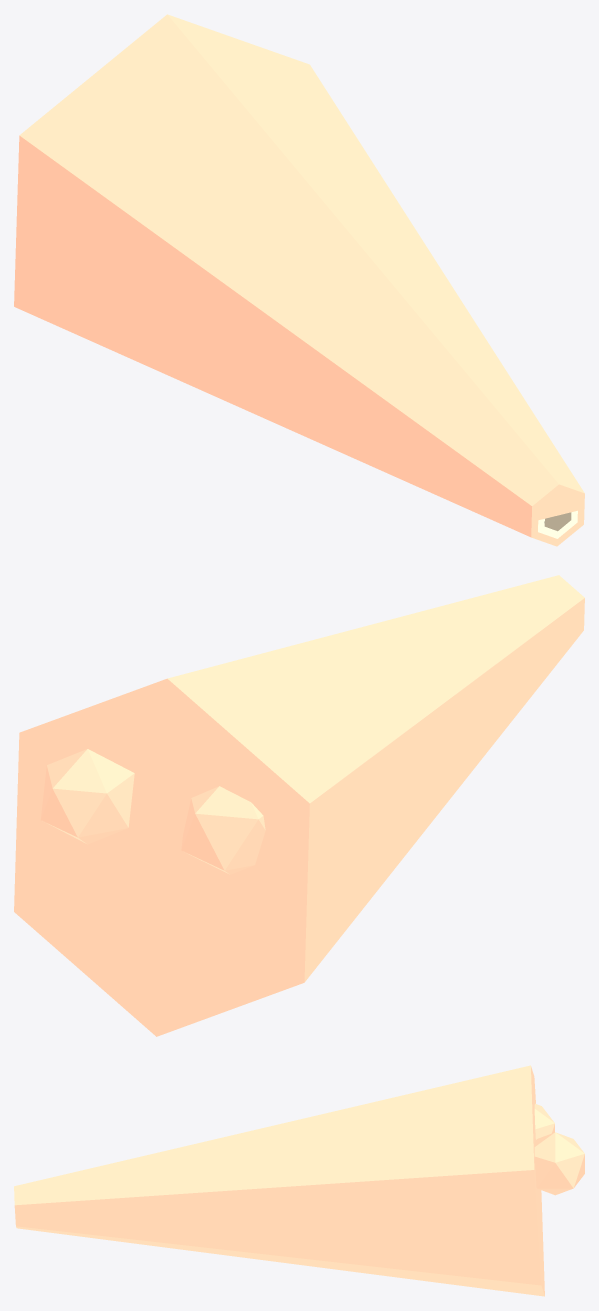
File: FX_AegisFlame.fbx
The picture shows the model from 3 angles, top to bottom: view 1: azimuth 30°, elevation 25°; view 2: azimuth 150°, elevation 25°; view 3: azimuth 270°, elevation 25°; orthographic projection. The views are drawn at different scales.
Visible parts, largest first — view 1: Flame_Outer; view 2: Flame_Outer, Flame_Puff3, Flame_Puff2; view 3: Flame_Outer, Flame_Puff3, Flame_Puff2.
Part boxes in pixels (<box>): Flame_Outer: <box>14,14,584,546</box>; Flame_Outer: <box>14,575,584,1036</box>; Flame_Puff3: <box>41,749,134,844</box>; Flame_Puff2: <box>181,786,265,874</box>; Flame_Outer: <box>14,1065,544,1296</box>; Flame_Puff3: <box>534,1132,584,1195</box>; Flame_Puff2: <box>534,1103,554,1139</box>.
Size of the model in its own units: 0.3811 by 0.4393 by 0.9833.
